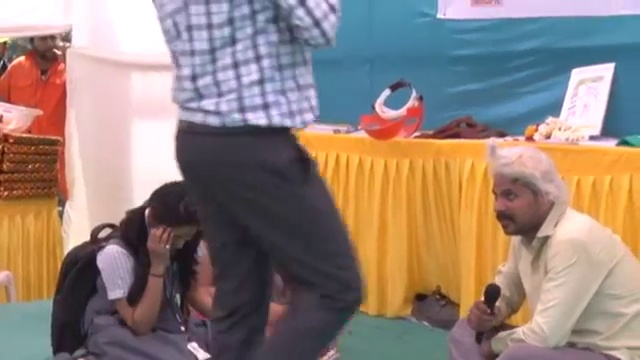helmet: (0, 101, 45, 139)
helmet_off: (482, 146, 568, 240), (136, 177, 200, 255), (24, 28, 62, 65)
person: (151, 1, 366, 359), (447, 148, 632, 360), (53, 184, 204, 355), (4, 26, 67, 142)
